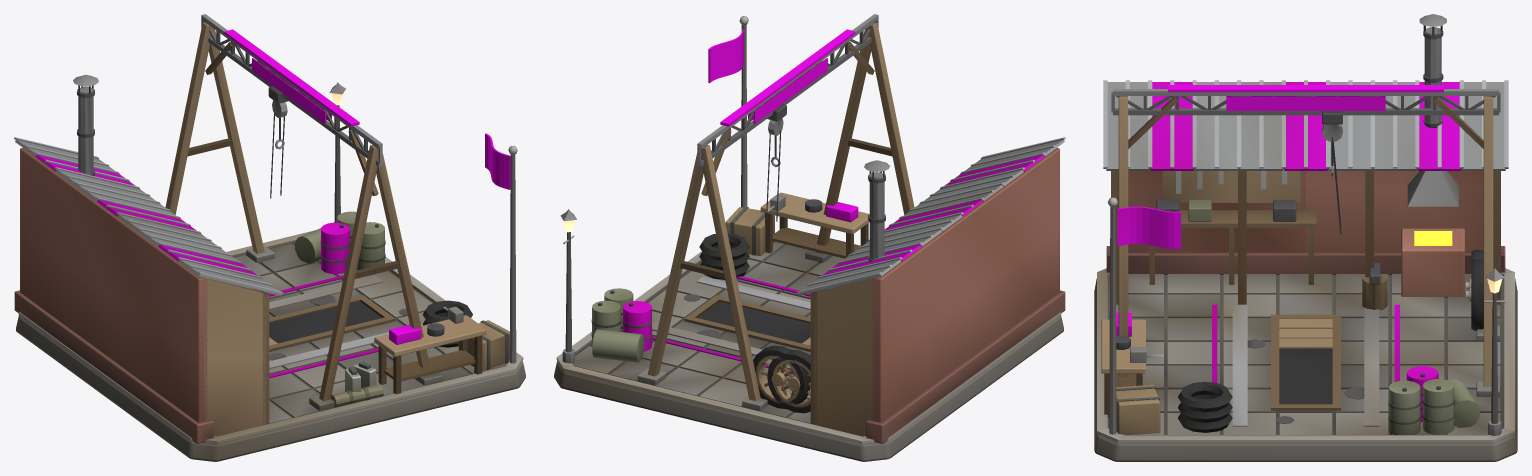
Rendered from repair_bay_industrial.glb.
3 renders of one model, left to right at view 1: azimuth 30°, elevation 25°; view 2: azimuth 150°, elevation 25°; view 3: azimuth 270°, elevation 25°, orthographic. The views are drawn at different scales.
Parts seen in each view (by area): view 1: Body; view 2: Body; view 3: Body.
Boxes of the visible parts, left/top/right/bottom form: Body: left=14, top=14, right=525, bottom=461; Body: left=554, top=14, right=1065, bottom=461; Body: left=1094, top=14, right=1517, bottom=461.
Bounding box in the file's own units: 3.99 × 3.1 × 3.99.
1 material, 1 textured.
